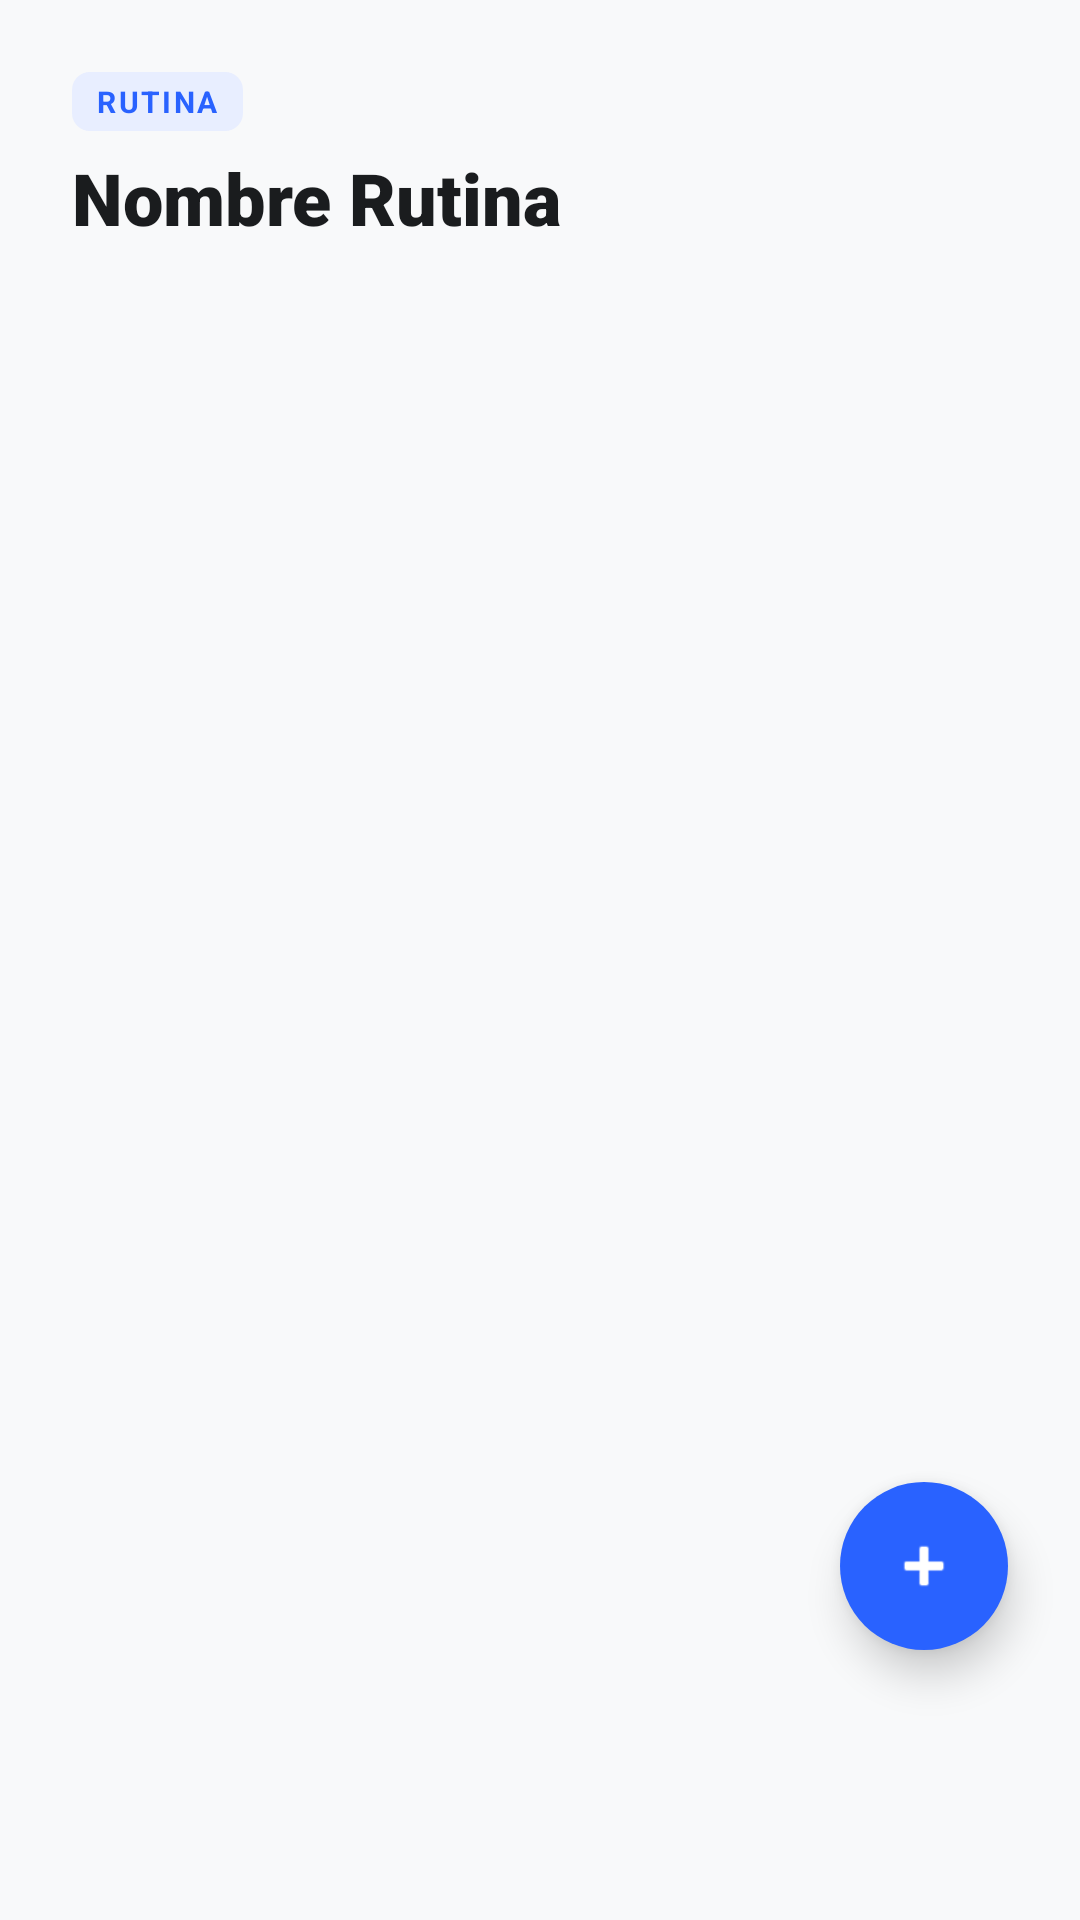

Icons on this 1080 × 1920 Android screen, each with the point to tap as (x=x, y=y):
Añadir ejercicio: (x=924, y=1566)
